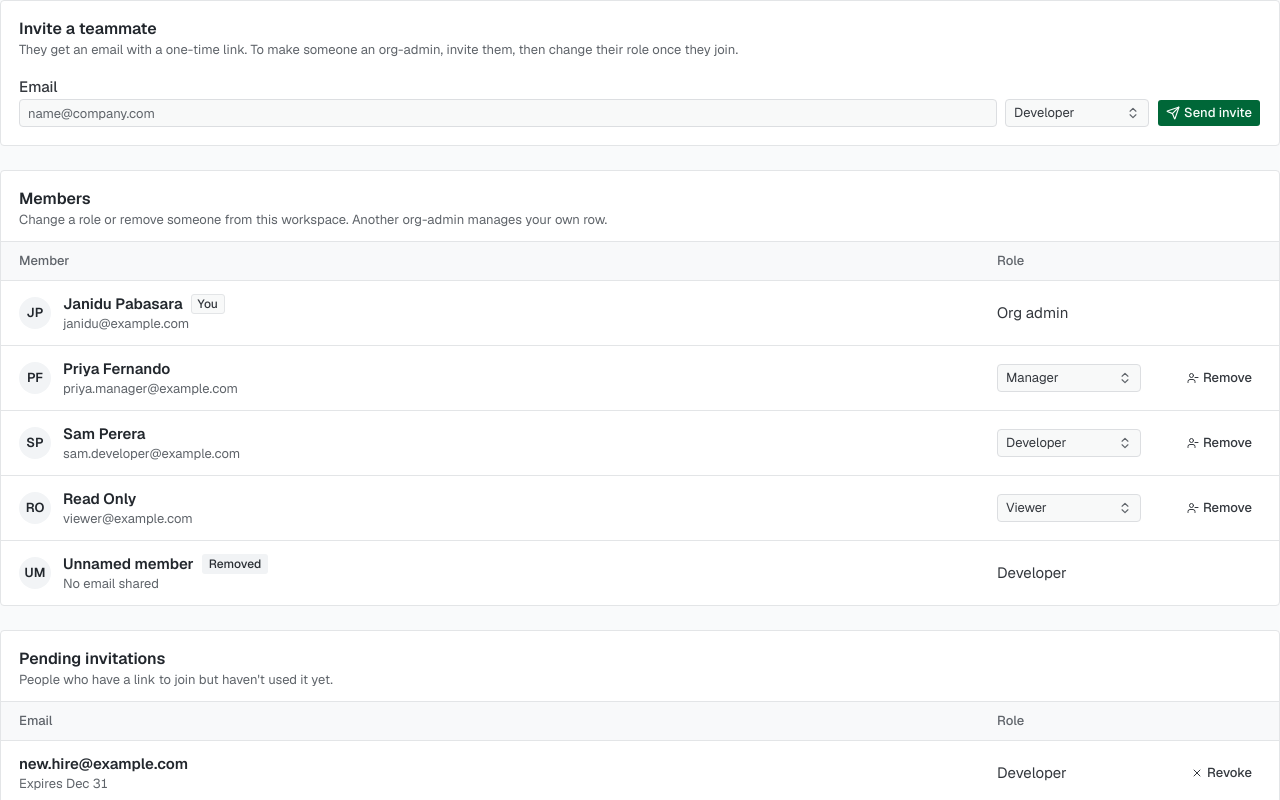
Test: a delivery failure says so and leaves no false pending invitation
The width and height of the screenshot is (1280, 800).
Type "someone@bounce.example" into the field labelled "Email".
click(508, 113); type("someone@bounce.example")  # box [19,99,997,127]
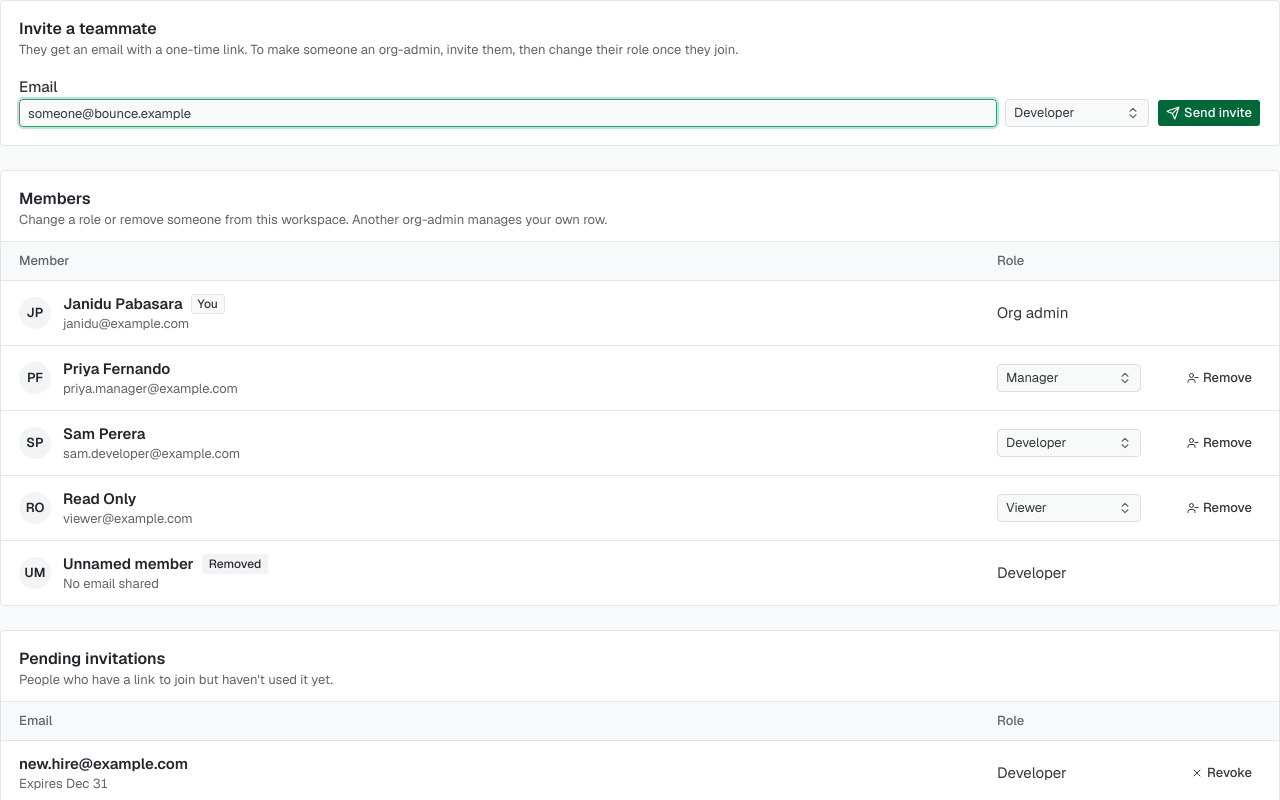
Click the button "Send invite".
click(1209, 113)  # box [1157,99,1261,127]
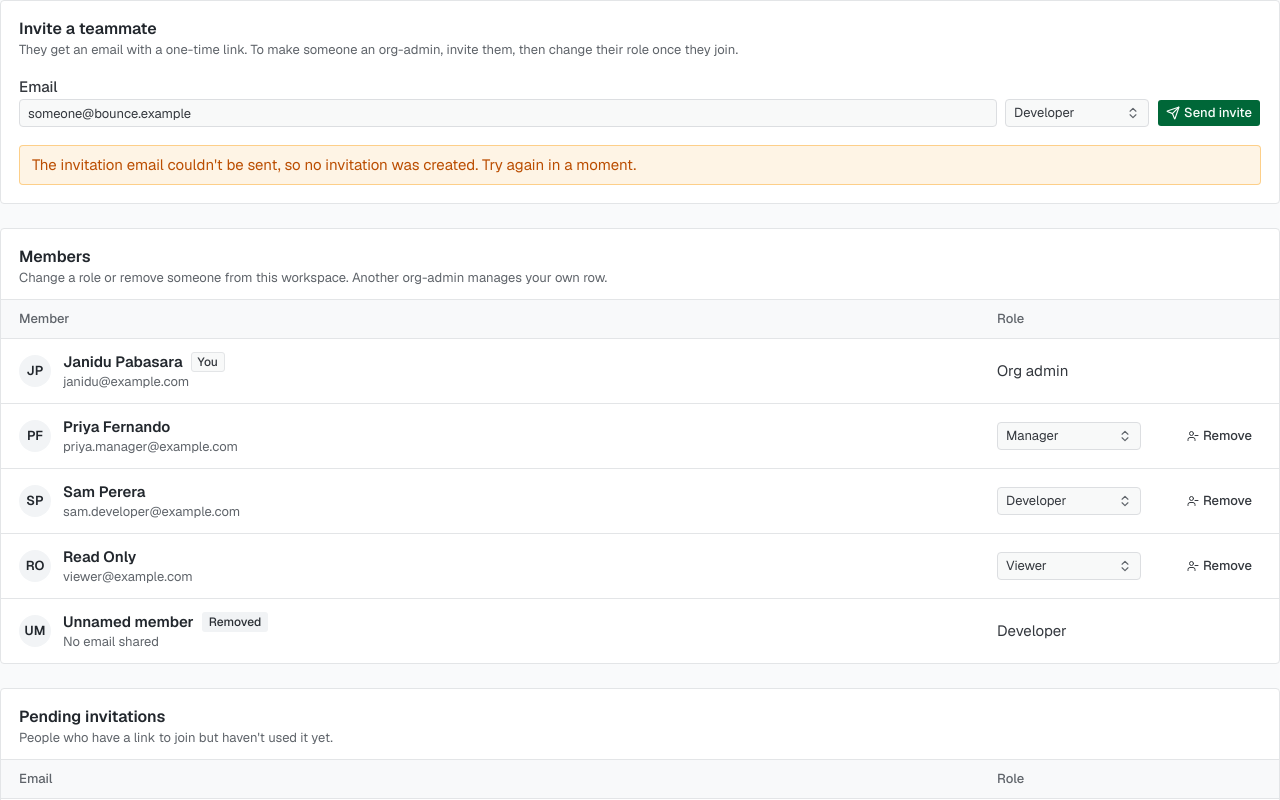
Result: the message shows "no invitation was created" at [32,155,636,174]
